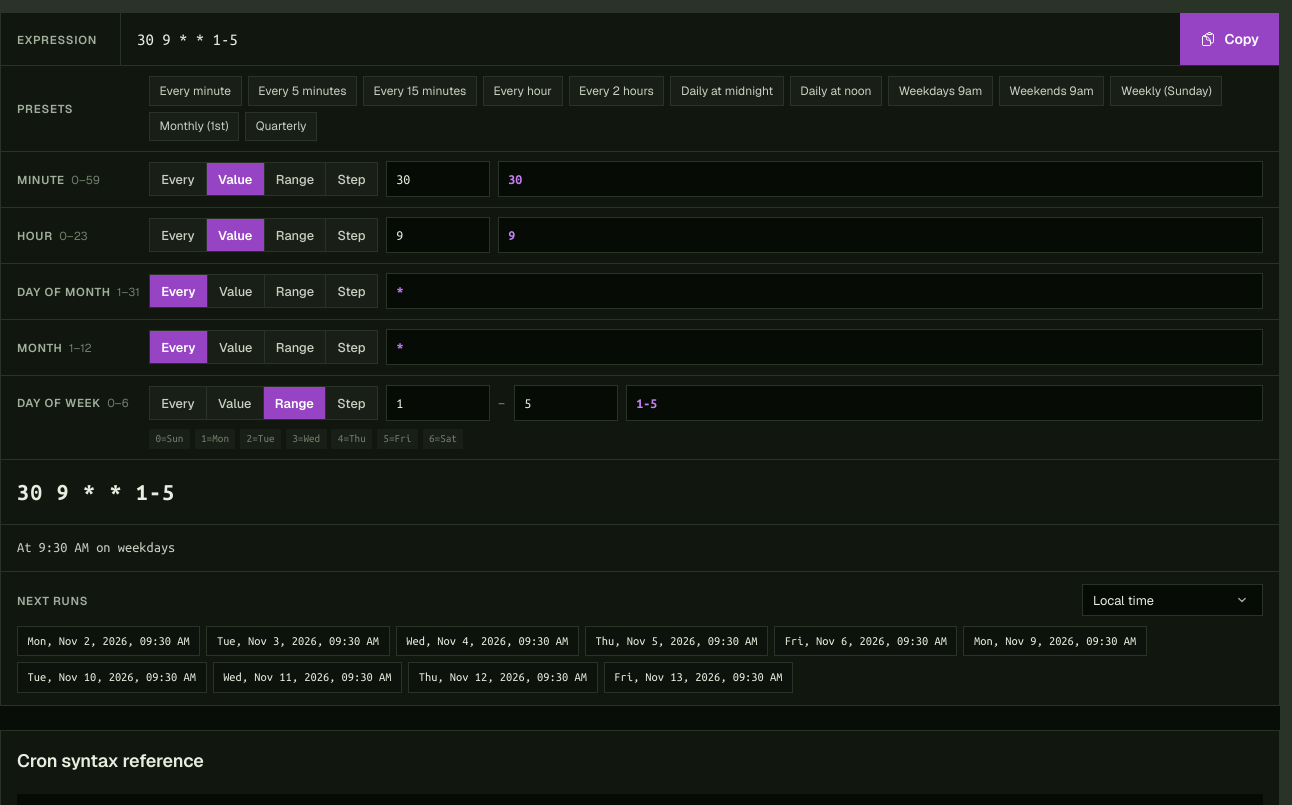
Test: Cron builder › keeps expression and rows in sync both ways
Replace the text in the field labelled "Expression" with "*/15 * * * *" at (651, 39), box [121,13,1180,65]
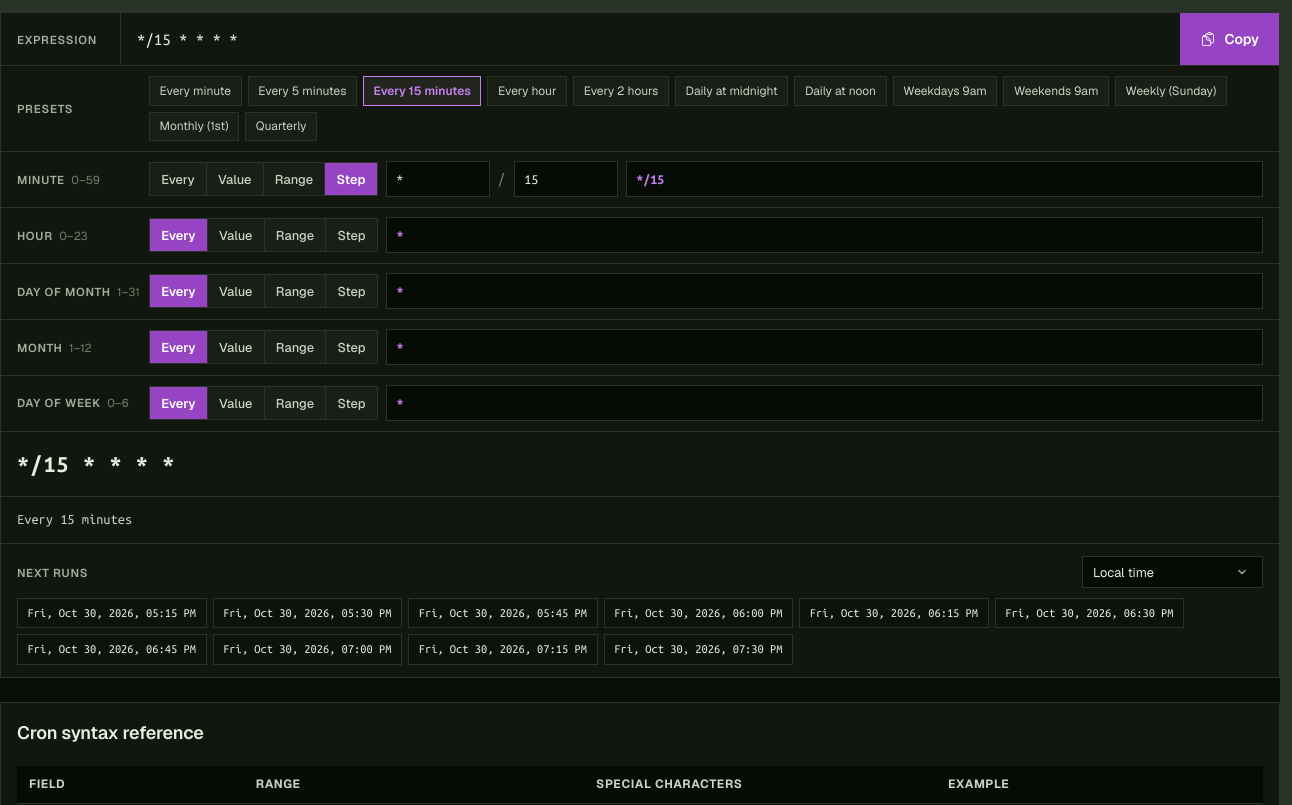
Expected: the button "Every 15 minutes" is shown, [363,76,482,106]
Replace the text in the field named "Hour field" with "9-17" at (824, 235), box [386,217,1263,253]
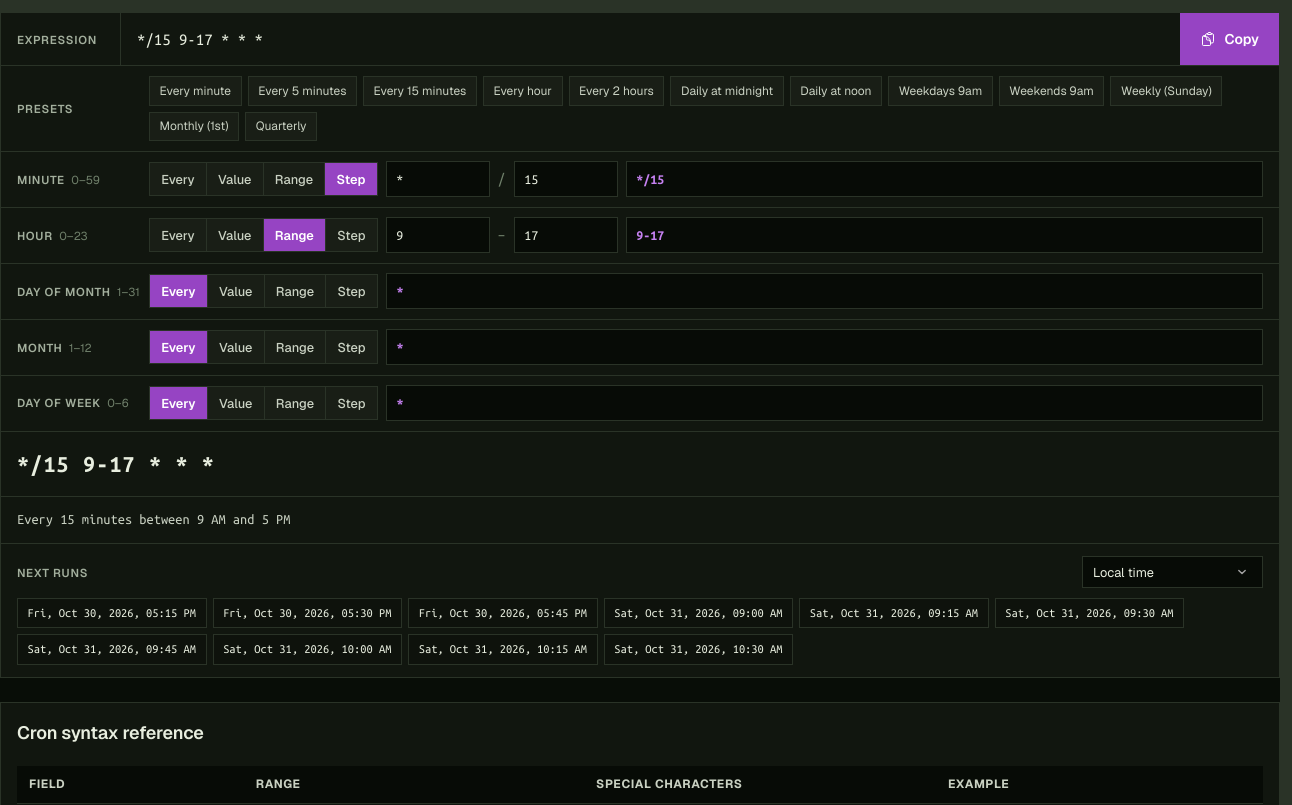
Expected: the field labelled "Expression" holds "*/15 9-17 * * *", [121,13,1180,65]
Click the button "Daily at noon" at (836, 91), box [790,76,882,106]
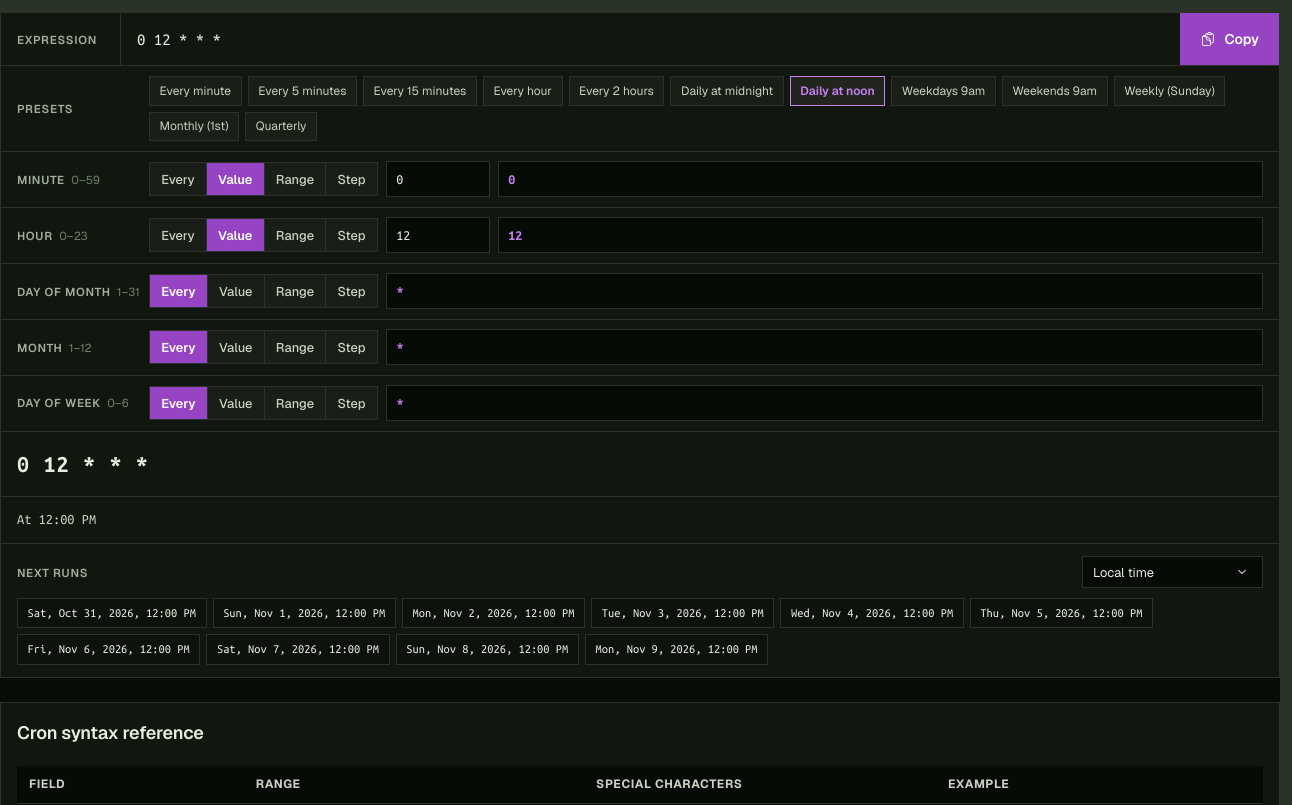
Expected: the field labelled "Expression" holds "0 12 * * *", [121,13,1180,65]
